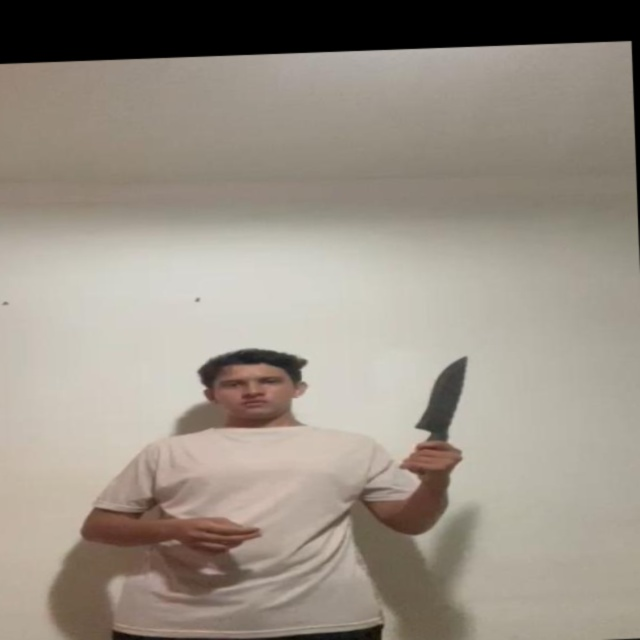Sharp-Object: (414, 356, 468, 427)
